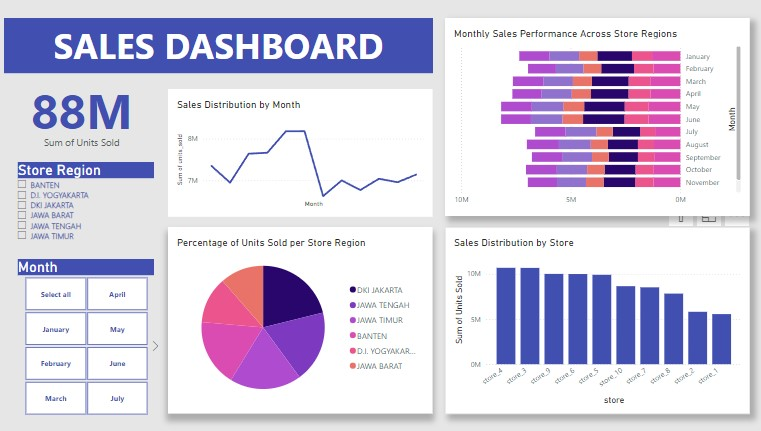

This screenshot's page, from the dashboard's own definition file:
{"tool":"powerbi","page":{"name":"Page 1","canvas":[1280,720],"ordinal":0},"visuals":[{"type":"lineStackedColumnComboChart","fields":{"Category":["daily_unit_sales.store"],"Y":["Sum(daily_unit_sales.units_sold)"]},"box":[747.8,332.2,490.2,357.1],"z":0},{"type":"lineChart","fields":{"Category":["daily_unit_sales.day_date.Variation.Date Hierarchy.Month"],"Y":["Sum(daily_unit_sales.units_sold)"]},"box":[55.6,332.2,662.9,343.9],"z":1000},{"type":"donutChart","fields":{"Category":["daily_unit_sales.store_region"],"Y":["Sum(daily_unit_sales.units_sold)"]},"box":[747.8,42.4,519.5,273.7],"z":2000},{"type":"textbox","box":[26.3,42.4,692.2,90.7],"z":3000},{"type":"card","fields":{"Values":["Sum(daily_unit_sales.units_sold)"]},"box":[52.7,149.3,143.4,166.8],"z":4000},{"type":"slicer","fields":{"Values":["daily_unit_sales.store_region"]},"box":[196.1,149.3,522.4,166.8],"z":5000}]}

Visuals, with their boxes in screenshot pixels (x1, y1, x2, y2), scaled from the page's 1280x720 canvas onto the 761x431 screenshot:
lineStackedColumnComboChart - daily_unit_sales.store x Sum(daily_unit_sales.units_sold): 445,199,736,413
lineChart - daily_unit_sales.day_date.Variation.Date Hierarchy.Month x Sum(daily_unit_sales.units_sold): 33,199,427,405
donutChart - daily_unit_sales.store_region x Sum(daily_unit_sales.units_sold): 445,25,753,189
textbox: 16,25,427,80
card - Sum(daily_unit_sales.units_sold): 31,89,117,189
slicer - daily_unit_sales.store_region: 117,89,427,189
